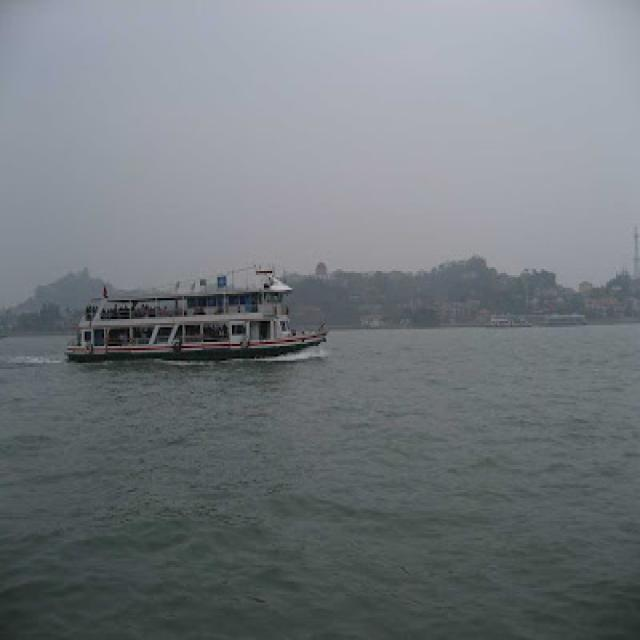passenger ship: (73, 254, 325, 374)
